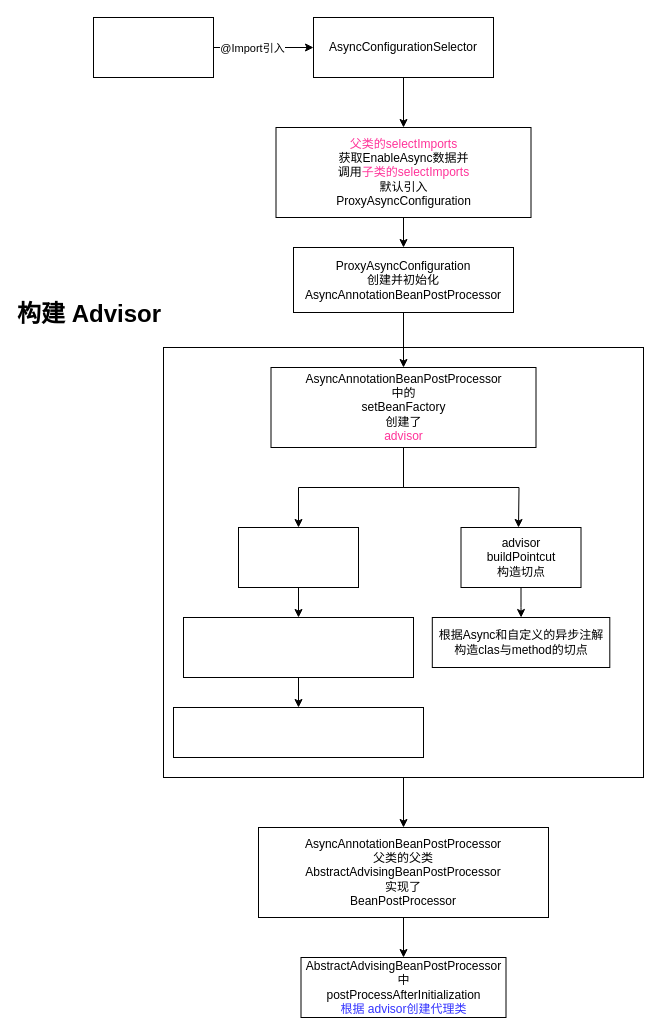
The diagram is 661 pixels wide and 1035 high, and some of its shapes have lost their labels. The shapes that lost their labels are listed below. From the top down, each one's centre as x and y in pixels, then its label:
At (153,47): "EnableAsync".
At (298,557): "advisor buildAdvice 构建了通知".
At (298,647): "buildAdvice 中创建了 AnnotationAsyncExecutionInterceptor 方法拦截器".
At (298,732): "invoke方法将要执行的方法包装成了task并提交到了 executor".
